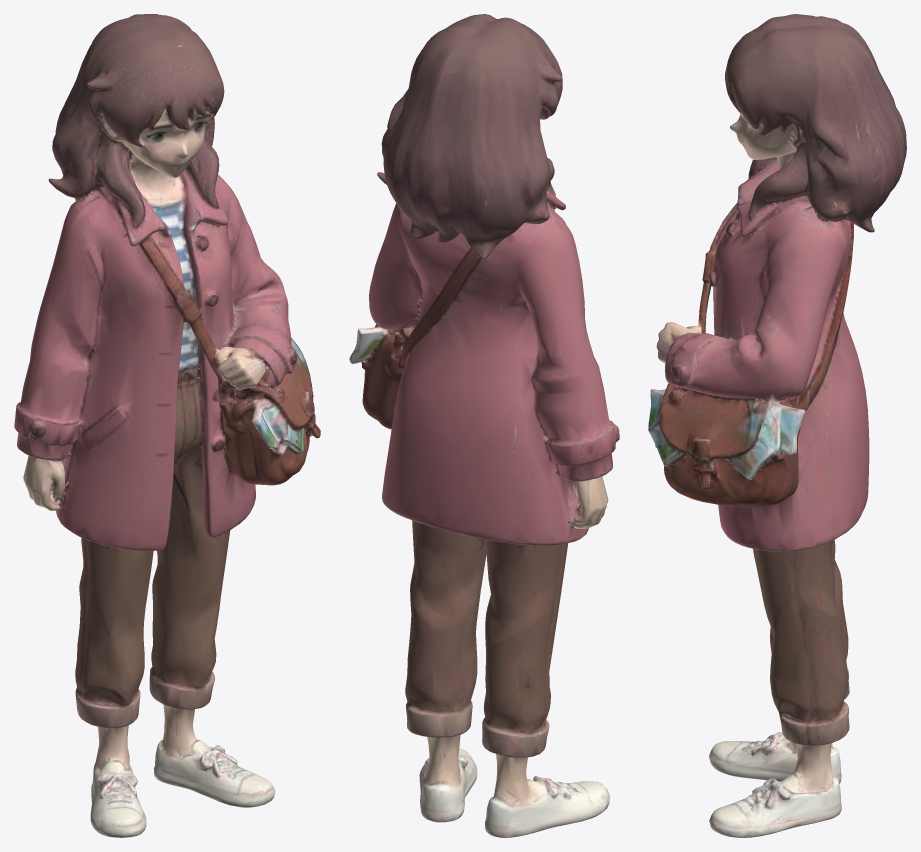
The model's file is npc_posta.glb.
The picture shows the model from 3 angles, left to right: view 1: azimuth 30°, elevation 25°; view 2: azimuth 150°, elevation 25°; view 3: azimuth 270°, elevation 25°; orthographic projection. The views are drawn at different scales.
Parts seen in each view (by area): view 1: Mesh_0; view 2: Mesh_0; view 3: Mesh_0.
Part boxes in pixels (<box>): Mesh_0: <box>14,14,320,837</box>; Mesh_0: <box>349,14,619,837</box>; Mesh_0: <box>648,14,906,837</box>.
Size of the model in its own units: 0.6966 by 1.91 by 0.5797.
Materials: 1 (1 with a texture image).
